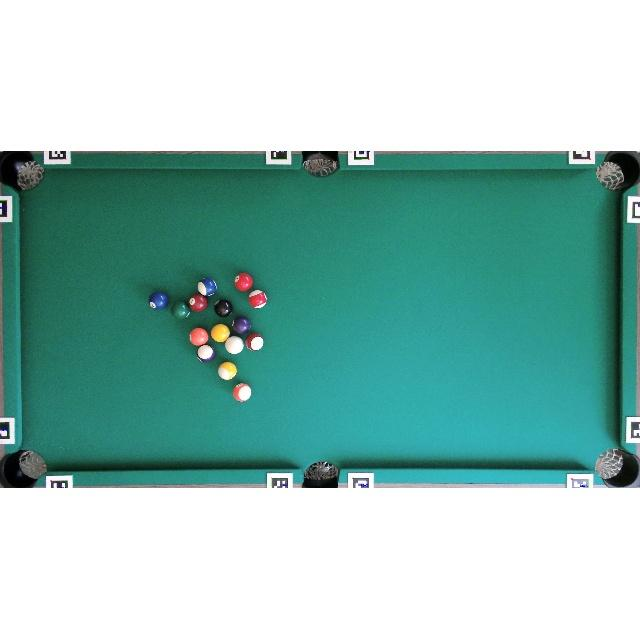cue ball: (224, 336, 243, 355)
other: (234, 272, 253, 292), (218, 362, 237, 381), (171, 301, 190, 320), (211, 323, 230, 342), (149, 291, 168, 310), (188, 294, 208, 312), (233, 383, 251, 402), (232, 316, 251, 334), (190, 328, 208, 347), (198, 278, 217, 296), (248, 290, 267, 308), (197, 345, 215, 363), (246, 333, 264, 351), (214, 299, 232, 317)
